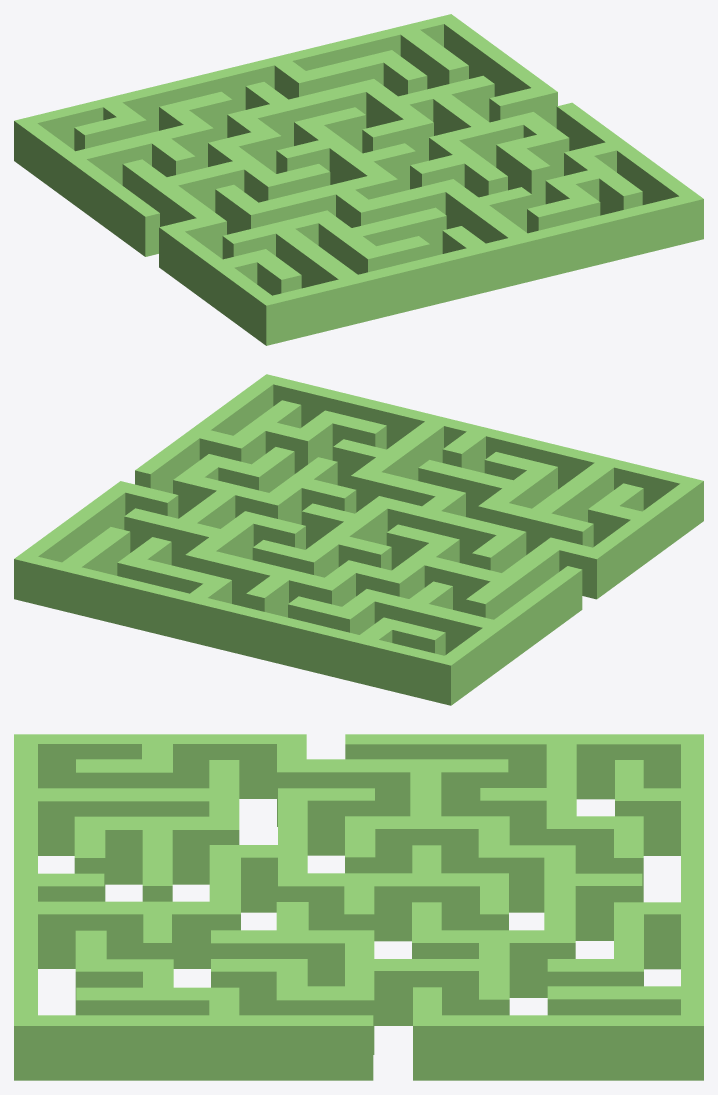
Rendered from Maze.fbx.
3 views of the same model, one above another, from view 1: azimuth 30°, elevation 25°; view 2: azimuth 150°, elevation 25°; view 3: azimuth 270°, elevation 25° (orthographic). The views are drawn at different scales.
Visible parts, largest first — view 1: Cube; view 2: Cube; view 3: Cube.
Boxes of the visible parts, x1,y1,x2,y2 form: Cube: [14, 14, 703, 345]; Cube: [14, 374, 703, 705]; Cube: [14, 734, 703, 1080].
Bounding box in the file's own units: 2277 × 200 × 2277.
